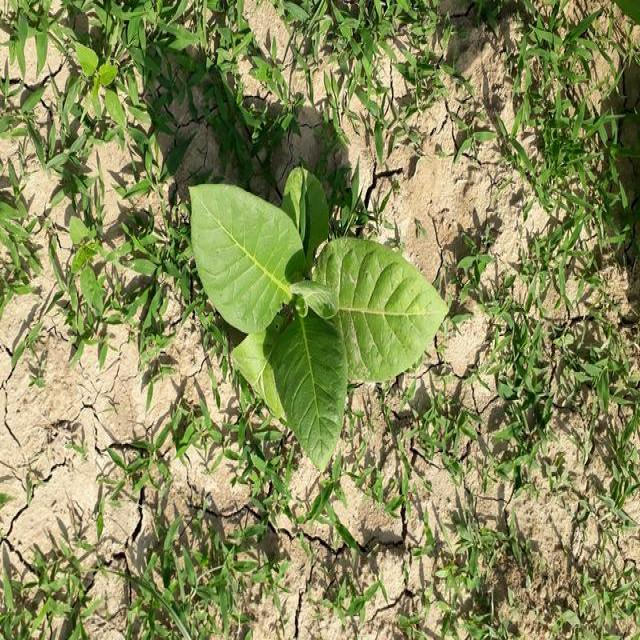crop: (194, 160, 442, 443)
